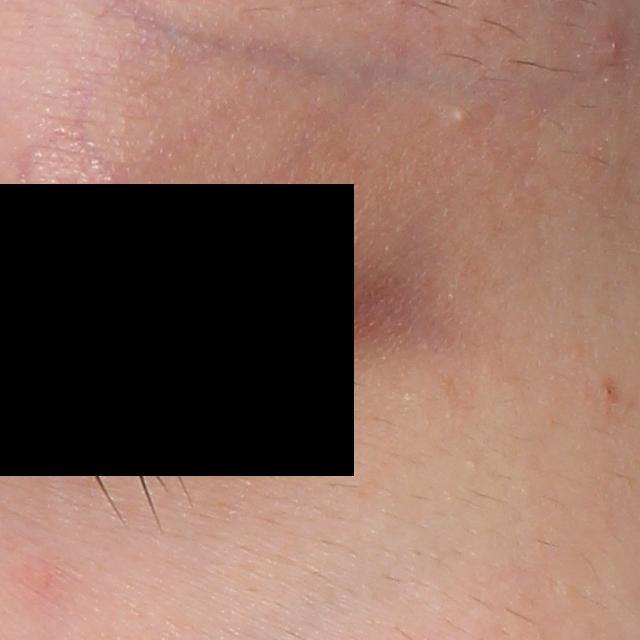comedo: (452, 108, 470, 127)
papule: (592, 25, 623, 63)
